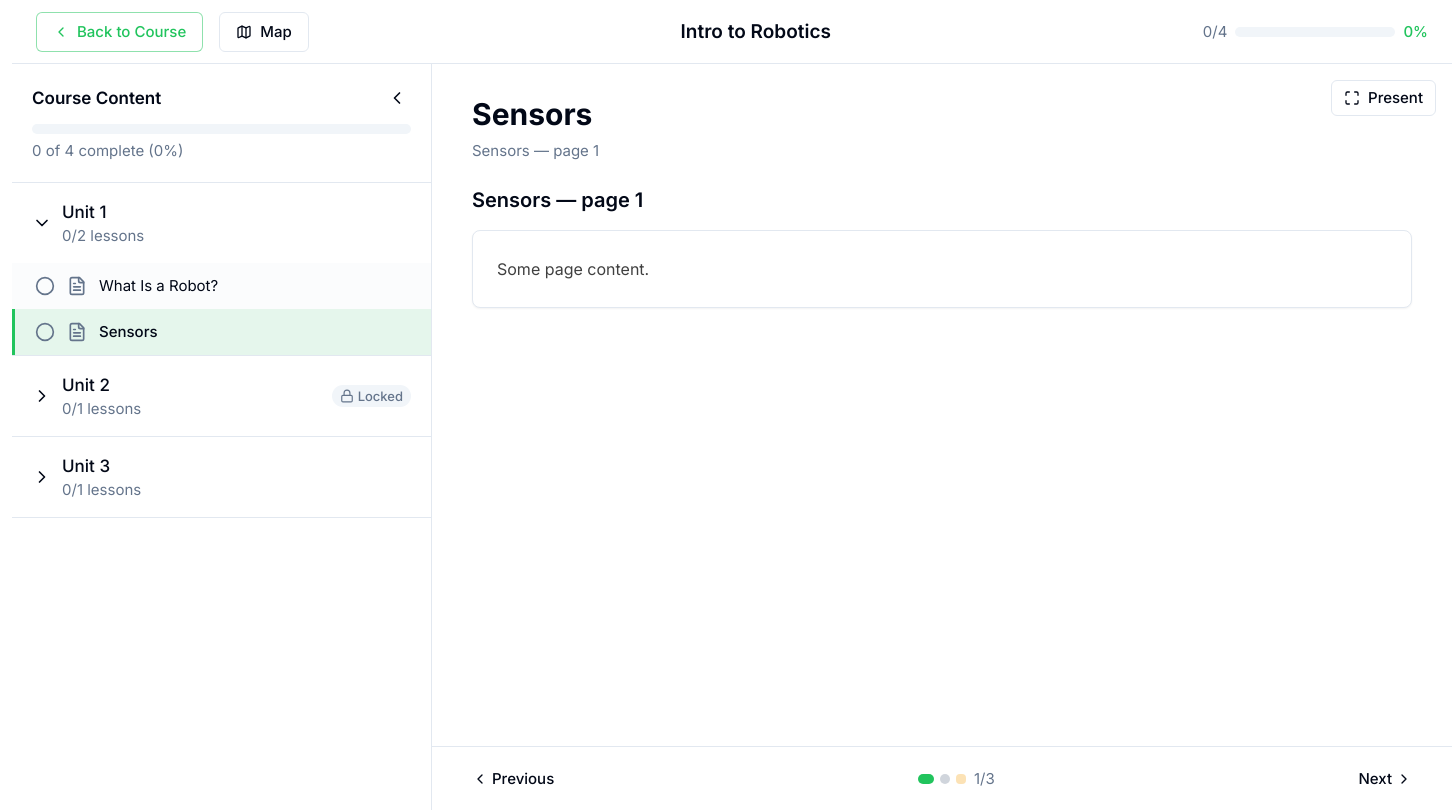
Test case: CoursePlayerPage — lesson transitions (phase 70) › skips a locked unit for the course owner, who still receives its lessons
The image size is (1452, 810).
Expected: the heading "Sensors" is shown, 472,96 -> 592,132
Press ArrowRight
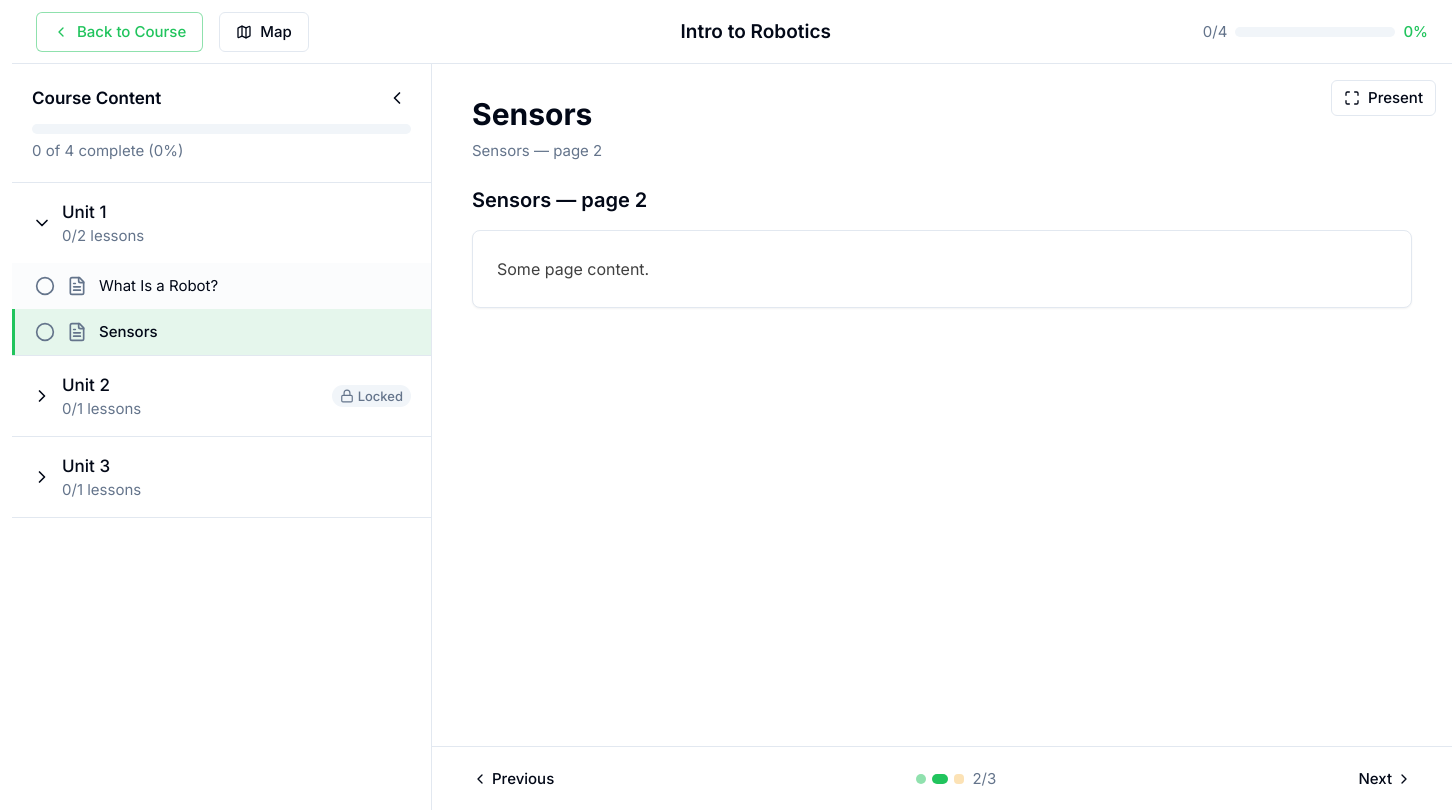
Press ArrowRight
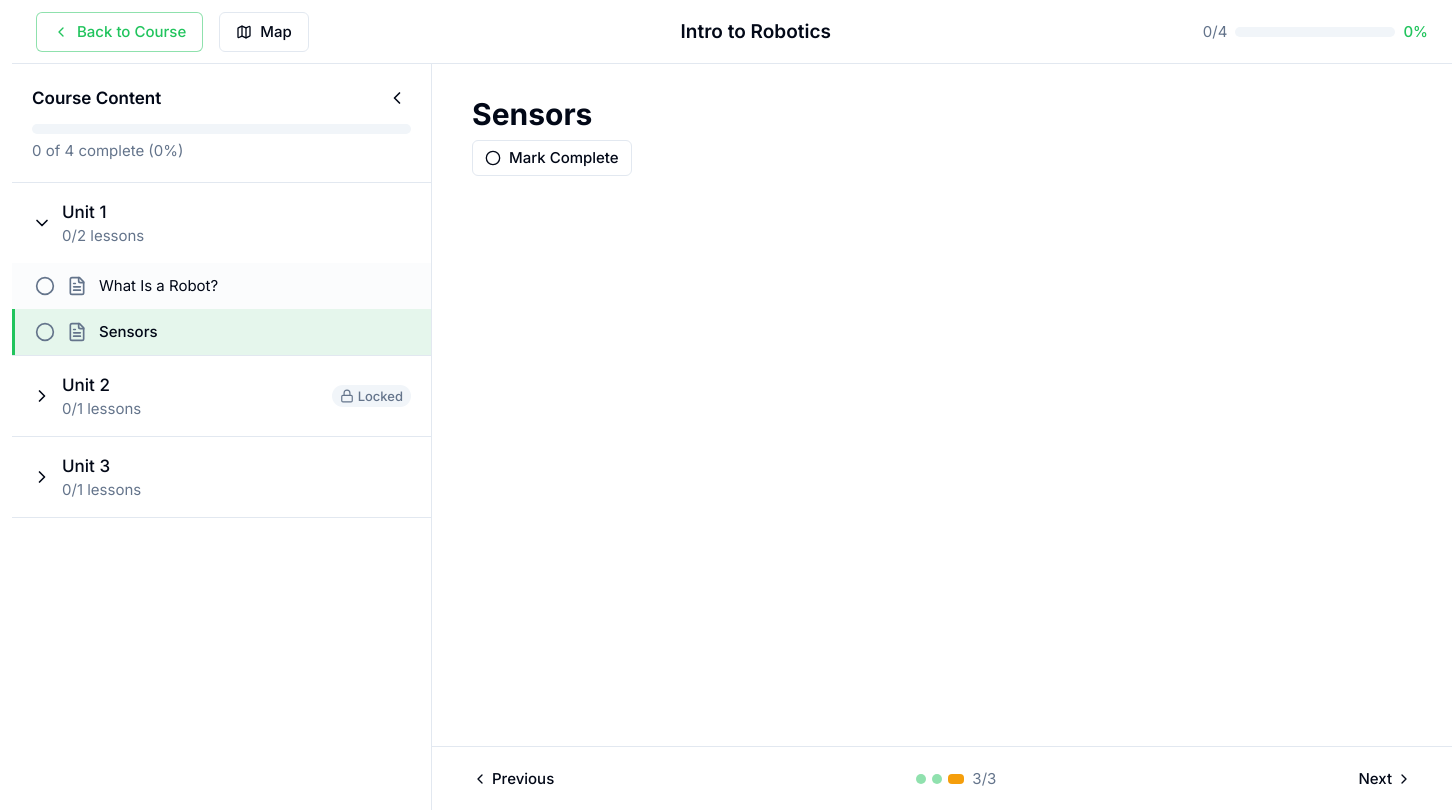
Now the text with test id "page-indicator" reads "3/3", box 972,768 -> 996,790
Click the button "Next" at {"x": 1385, "y": 778}, box 1342,758 -> 1428,798
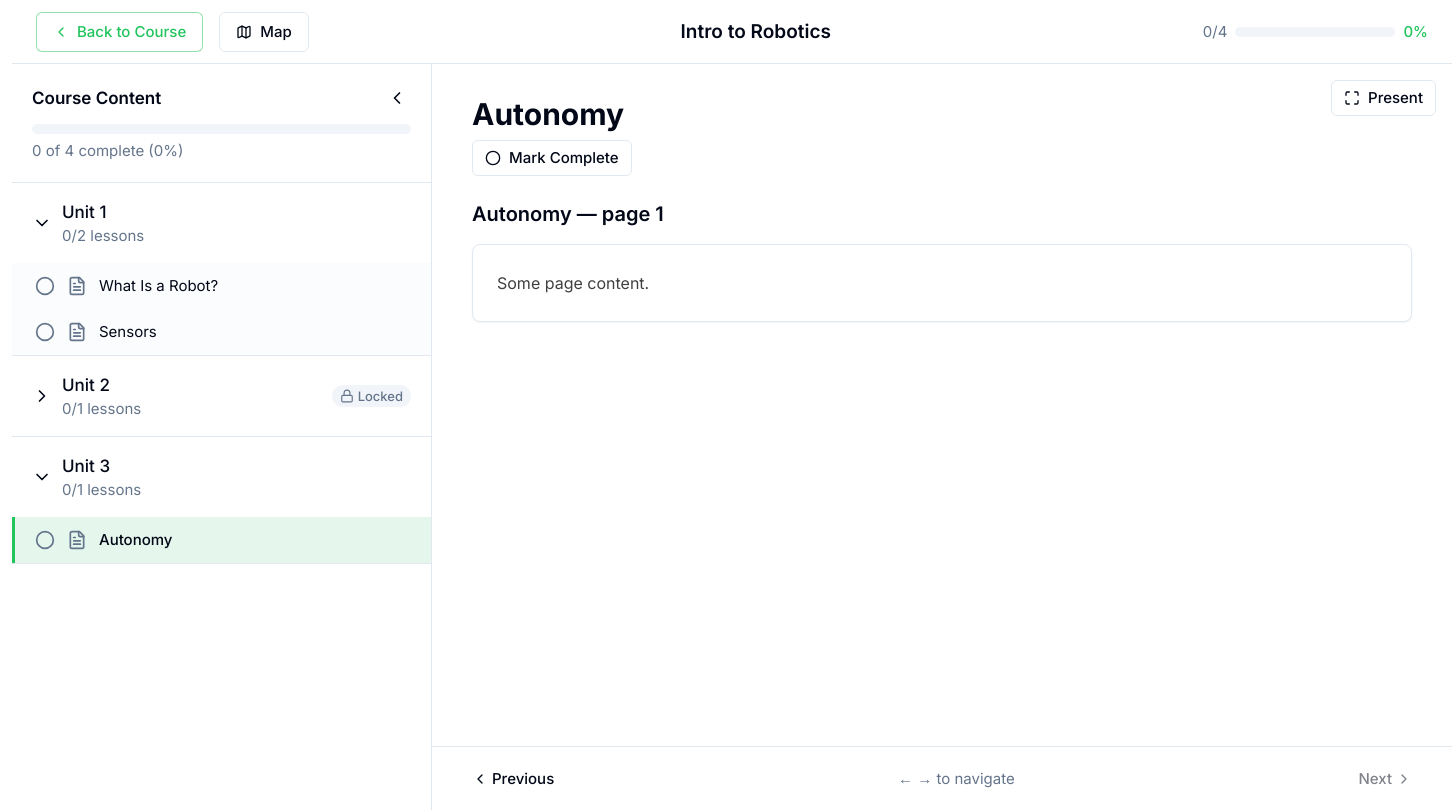
Now the heading "Autonomy" is shown, box 472,96 -> 624,132
